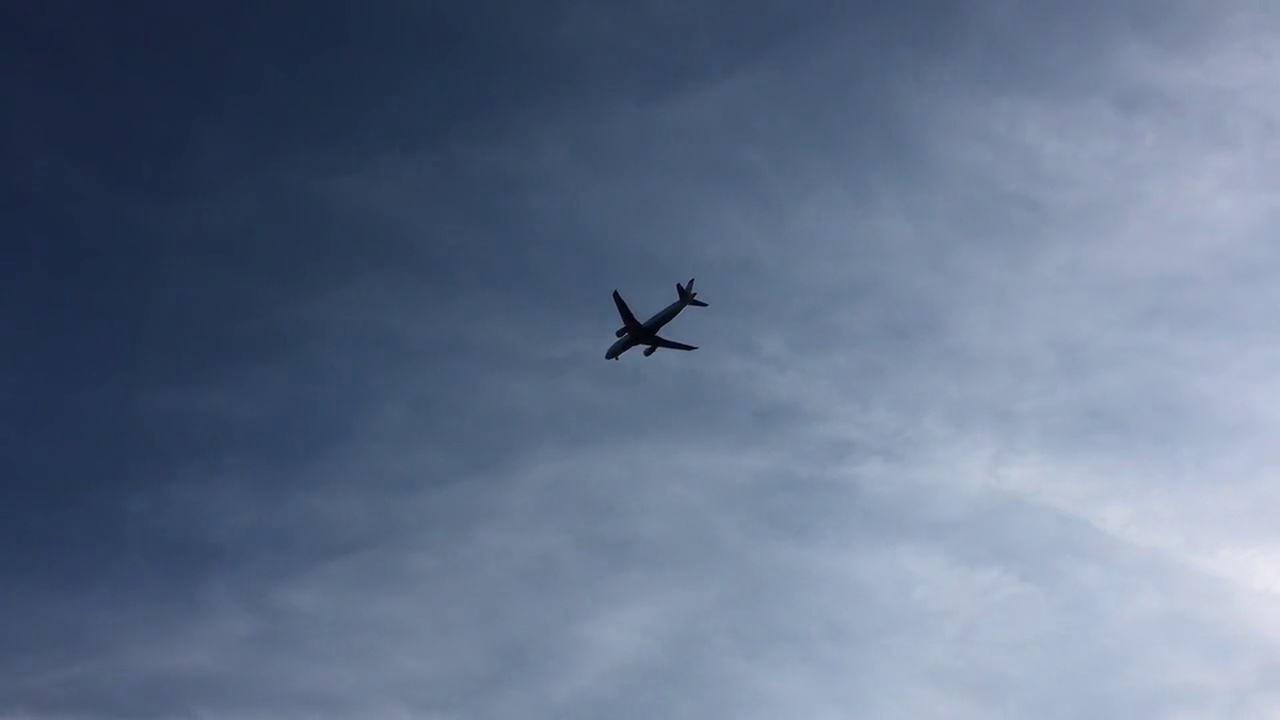plane: (603, 277, 708, 363)
